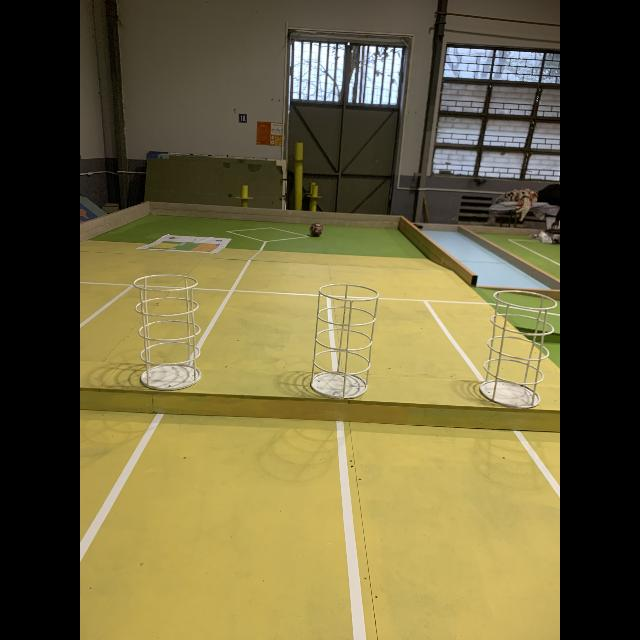S: (479, 289, 558, 411), (132, 273, 204, 392), (310, 282, 380, 402)
